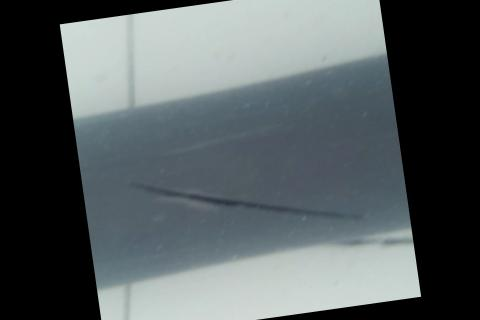keretakan: (124, 146, 367, 252)
